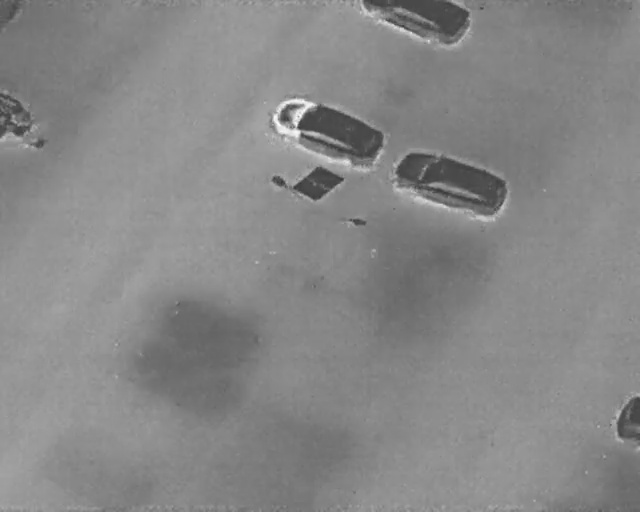Car: (263, 84, 392, 177), (386, 138, 515, 227), (359, 0, 473, 49), (610, 393, 639, 445)
DontCare: (0, 88, 51, 153)
